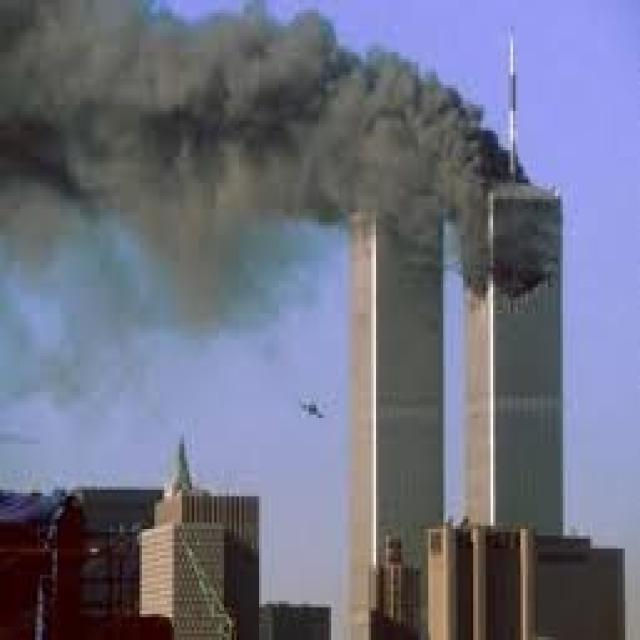Smoke: (0, 0, 296, 320), (300, 8, 576, 320)
